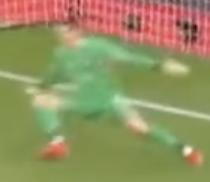goalkeeper: (21, 13, 210, 182)
